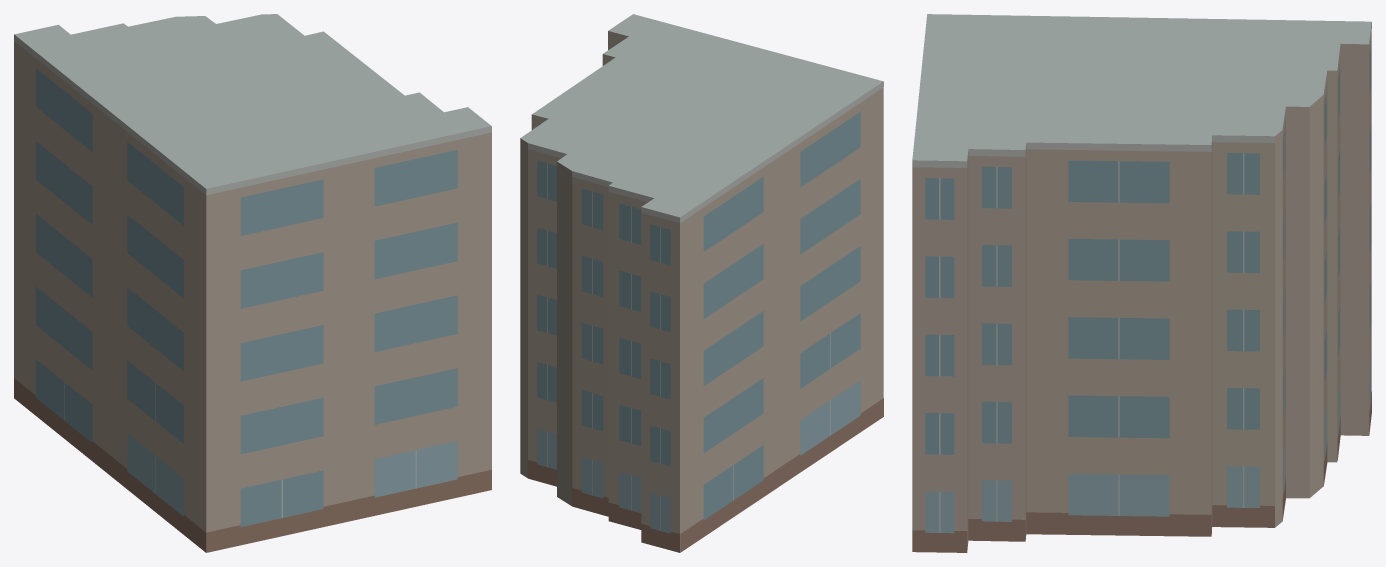
File: survey-upis-32663346.glb
3 views of the same model, side by side, from view 1: azimuth 30°, elevation 25°; view 2: azimuth 150°, elevation 25°; view 3: azimuth 270°, elevation 25° (orthographic). The views are drawn at different scales.
Parts seen in each view (by area): view 1: survey-upis-32663346.tmp; view 2: survey-upis-32663346.tmp; view 3: survey-upis-32663346.tmp.
Part boxes in pixels (box(x1,y1,x2,y2)): survey-upis-32663346.tmp: box(14, 14, 491, 552); survey-upis-32663346.tmp: box(520, 14, 883, 552); survey-upis-32663346.tmp: box(912, 14, 1371, 552).
Bounding box in the file's own units: 11.38 × 14.1 × 15.
